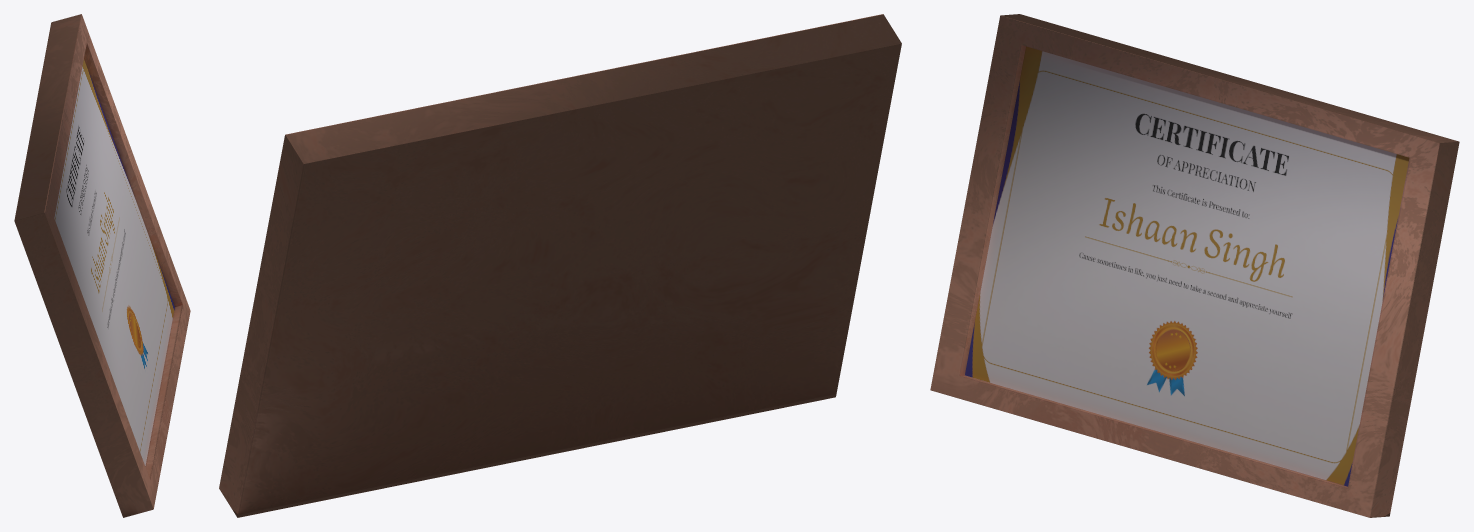
File: Certificate.glb
3 renders of one model, left to right at view 1: azimuth 30°, elevation 25°; view 2: azimuth 150°, elevation 25°; view 3: azimuth 270°, elevation 25°, orthographic. The views are drawn at different scales.
Visible parts, largest first — view 1: Certificate; view 2: Certificate; view 3: Certificate.
Boxes of the visible parts, bbox=[...] form: Certificate: bbox=[14, 14, 190, 517]; Certificate: bbox=[219, 14, 901, 517]; Certificate: bbox=[930, 14, 1459, 517].
Bounding box in the file's own units: 0.2351 × 0.2053 × 0.2877.
Materials: 2 (2 with a texture image).
